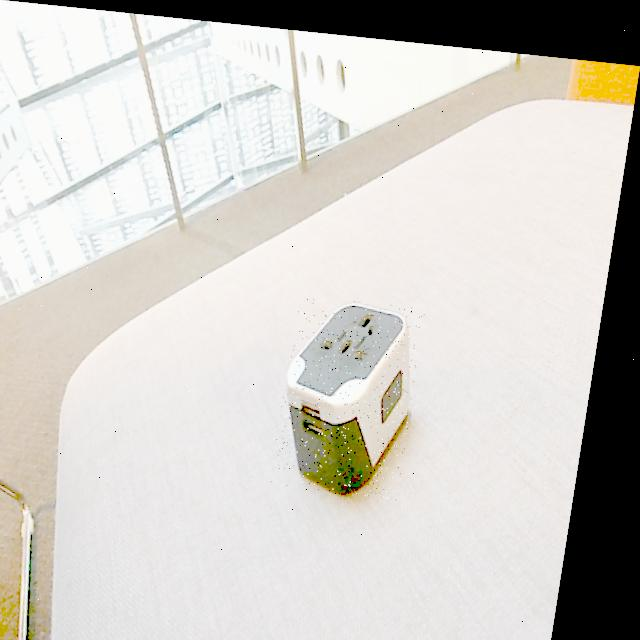adapter: (284, 288, 436, 490)
